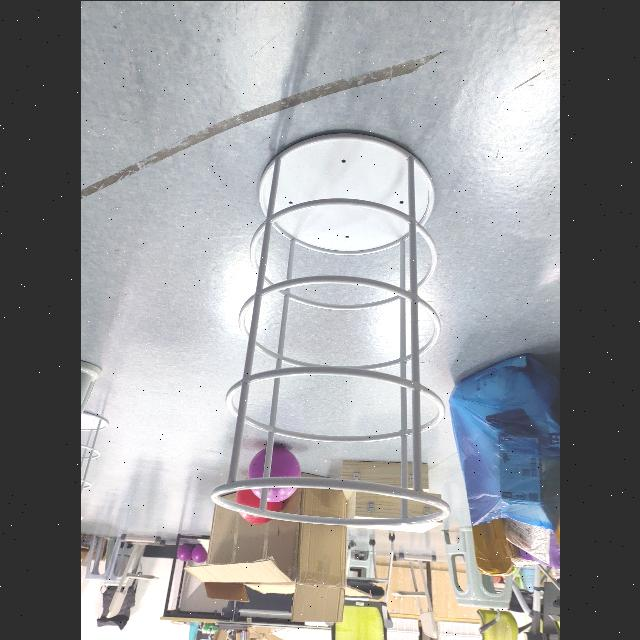P: (248, 444, 296, 502), (191, 543, 207, 562), (177, 543, 192, 561)
R: (235, 488, 259, 507), (239, 511, 270, 524), (265, 500, 283, 510)
S: (203, 126, 452, 532), (211, 132, 449, 528)
